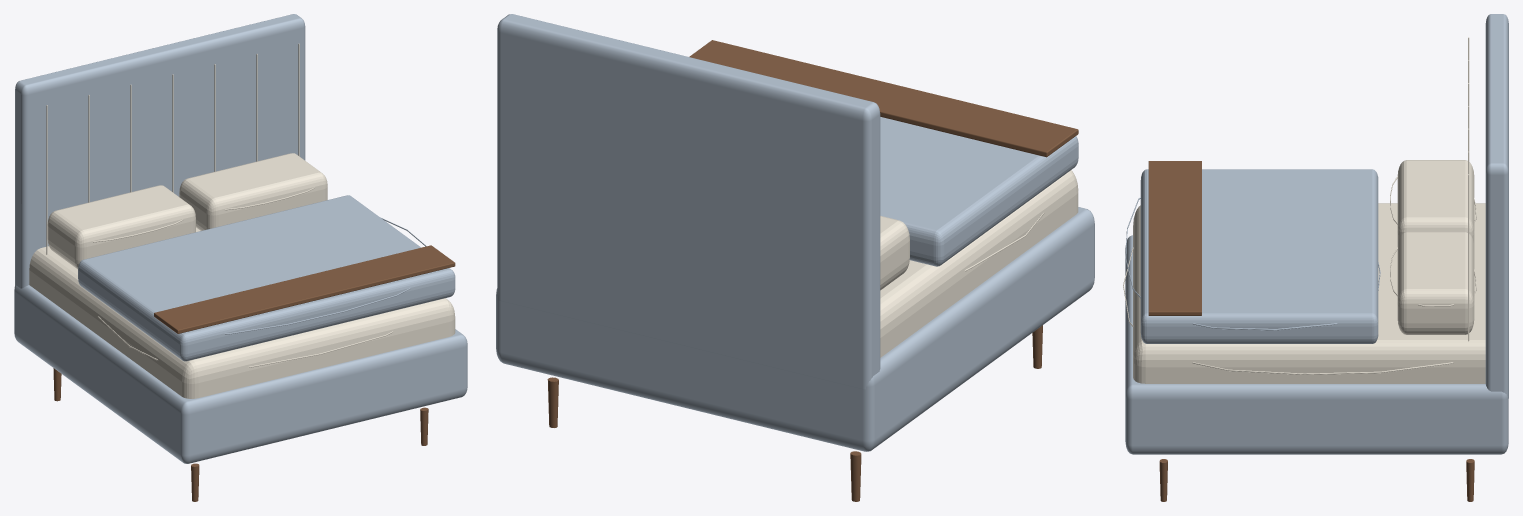
The model's file is bed-2-0.glb.
3 renders of one model, left to right at view 1: azimuth 30°, elevation 25°; view 2: azimuth 150°, elevation 25°; view 3: azimuth 270°, elevation 25°, orthographic. The views are drawn at different scales.
Parts seen in each view (by area): view 1: upholstery, tailored-cushion, part; view 2: upholstery, tailored-cushion, part; view 3: upholstery, tailored-cushion, part.
Boxes of the visible parts, x1,y1,x2,y2 form: upholstery: (14,14,467,463); tailored-cushion: (29,43,455,398); part: (53,245,455,501); upholstery: (496,14,1094,451); tailored-cushion: (880,170,1078,357); part: (547,40,1078,501); upholstery: (1125,14,1508,454); tailored-cushion: (1123,37,1485,383); part: (1148,161,1474,501).
Size of the model in its own units: 1 by 1 by 1.
